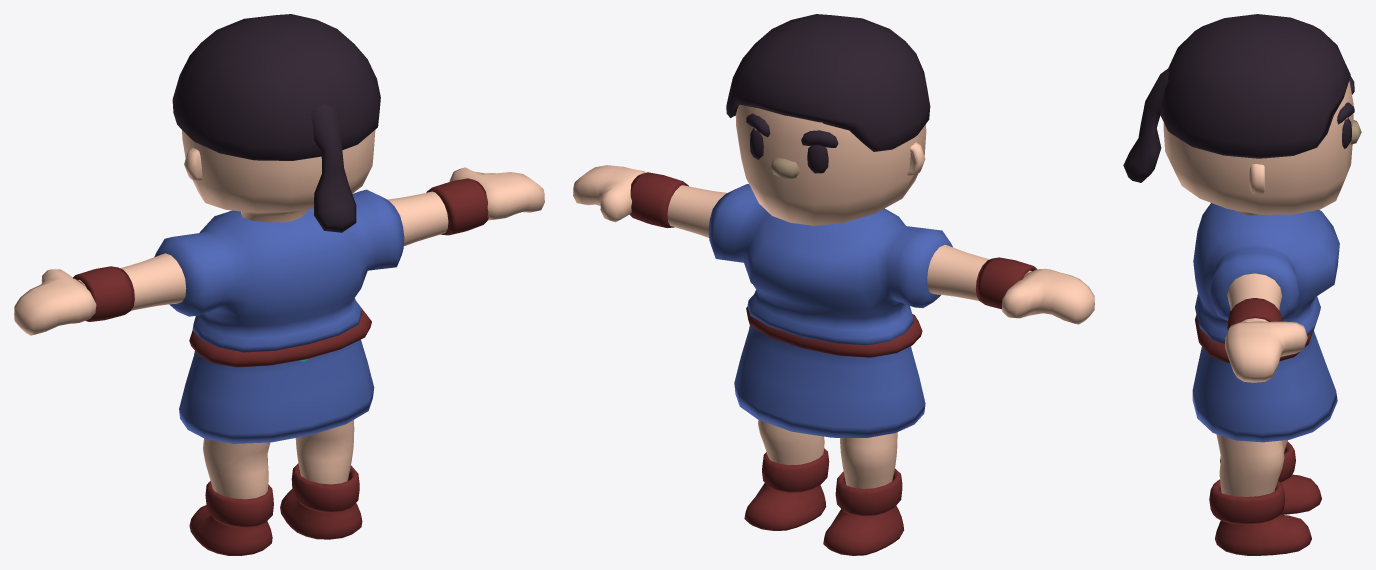
File: man_05.fbx
The picture shows the model from 3 angles, left to right: view 1: azimuth 30°, elevation 25°; view 2: azimuth 150°, elevation 25°; view 3: azimuth 270°, elevation 25°; orthographic projection. The views are drawn at different scales.
Parts seen in each view (by area): view 1: Cube.008; view 2: Cube.008; view 3: Cube.008.
Part boxes in pixels (bbox=[...]): Cube.008: bbox=[14, 14, 544, 555]; Cube.008: bbox=[573, 14, 1094, 555]; Cube.008: bbox=[1123, 14, 1361, 555].
Bounding box in the file's own units: 476 × 442 × 192.
